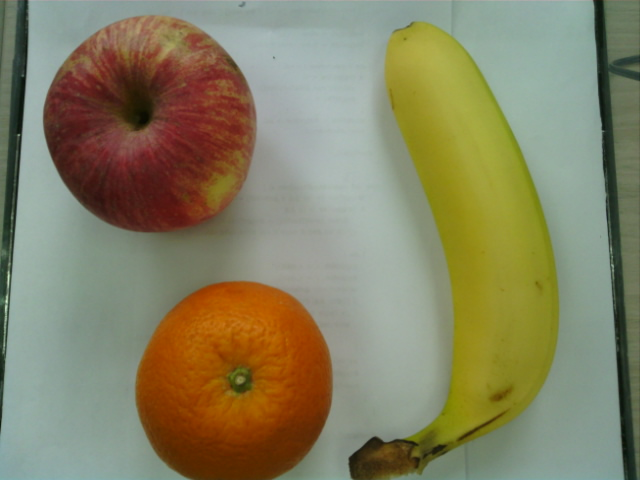normal_apple: (43, 15, 254, 230)
normal_banana: (381, 22, 561, 463)
normal_orange: (136, 282, 333, 480)
